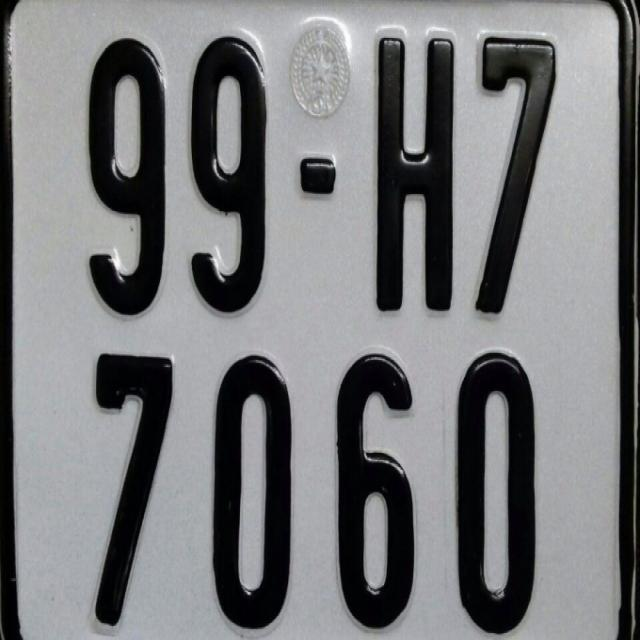a: (0, 0, 640, 639)
bien so: (0, 0, 640, 640), (0, 8, 640, 640)
